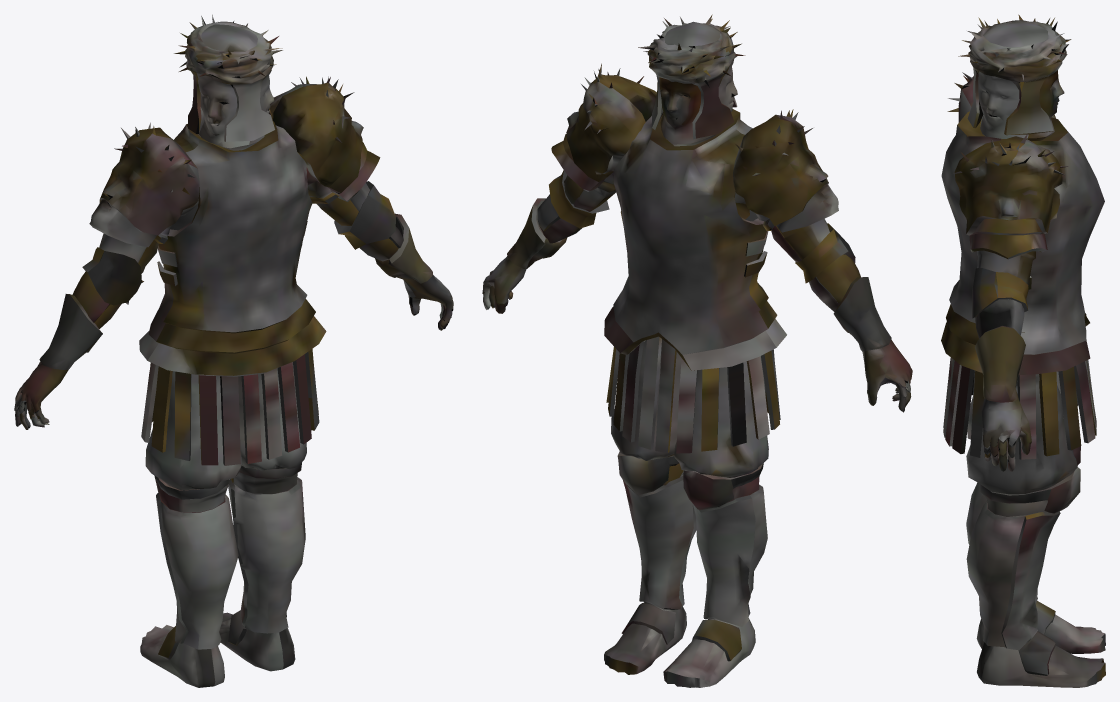
3 renders of one model, left to right at view 1: azimuth 30°, elevation 25°; view 2: azimuth 150°, elevation 25°; view 3: azimuth 270°, elevation 25°, orthographic. The views are drawn at different scales.
Visible parts, largest first — view 1: mesh_0; view 2: mesh_0; view 3: mesh_0.
Boxes of the visible parts, box(x1,y1,x2,y2) form: mesh_0: box(14, 14, 453, 687); mesh_0: box(482, 14, 912, 687); mesh_0: box(941, 14, 1105, 687).
Size of the model in its own units: 53.13 by 74.59 by 17.52.
1 material, 1 textured.
